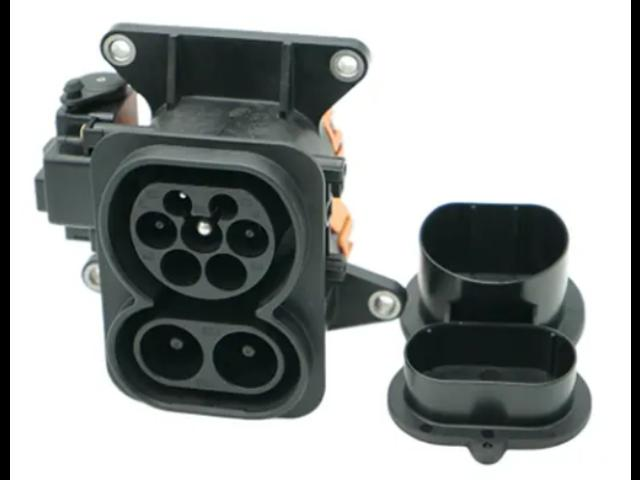inlet: (129, 183, 274, 300)
inlet-above-left: (162, 189, 191, 217)
inlet-above-right: (208, 193, 238, 221)
inlet-below-left: (160, 249, 201, 286)
inlet-below-right: (204, 254, 247, 291)
inlet-circle: (179, 215, 222, 253)
inlet-circle-left: (134, 211, 176, 249)
inlet-circle-right: (225, 219, 268, 258)
inlet-minus: (212, 331, 277, 388)
inlet-plus: (140, 324, 203, 381)
